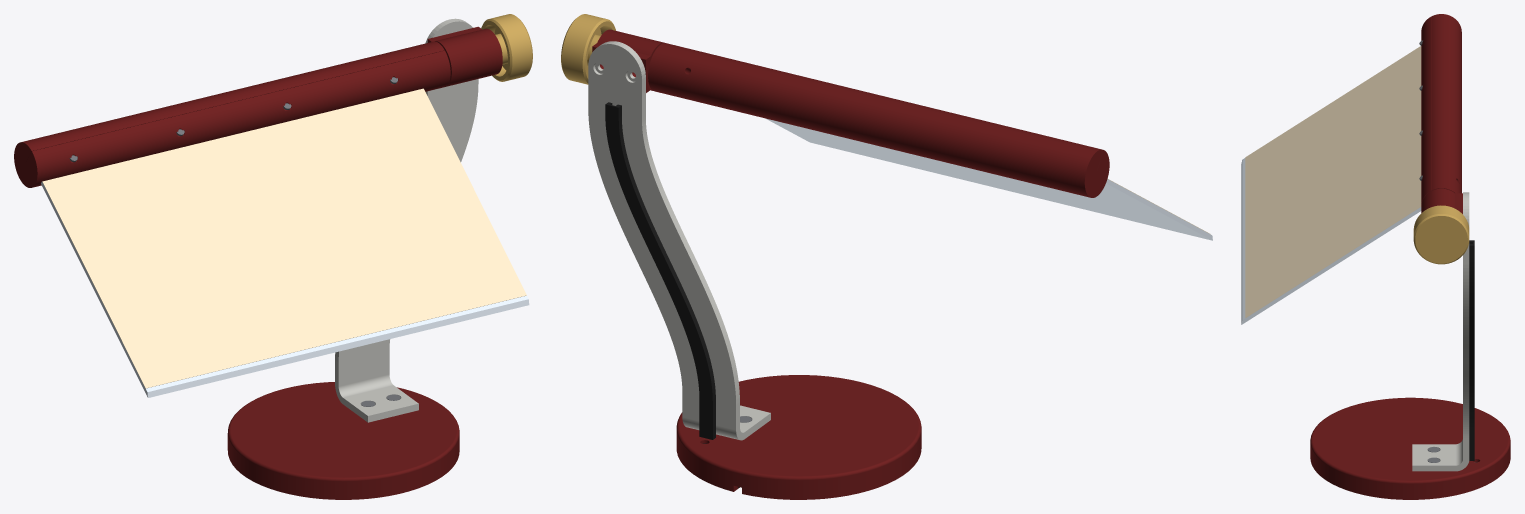
The model's file is ruta-pa-fot.glb.
3 renders of one model, left to right at view 1: azimuth 30°, elevation 25°; view 2: azimuth 150°, elevation 25°; view 3: azimuth 270°, elevation 25°, orthographic. The views are drawn at different scales.
Parts seen in each view (by area): view 1: 10_prismeark, 01_fot, 08_bjelkelok, 04_arm, 07_bjelke, 09_lysleiar, 06_leddhus, 13_knott; view 2: 07_bjelke, 01_fot, 04_arm, 09_lysleiar, 05_kabeldeksel, 13_knott, 06_leddhus; view 3: 10_prismeark, 01_fot, 07_bjelke, 04_arm, 13_knott, 08_bjelkelok, 09_lysleiar, 05_kabeldeksel, 06_leddhus.
Boxes of the visible parts, bbox=[...] form: 10_prismeark: bbox=[42, 88, 526, 388]; 01_fot: bbox=[227, 382, 459, 499]; 08_bjelkelok: bbox=[26, 50, 450, 182]; 04_arm: bbox=[335, 18, 478, 422]; 07_bjelke: bbox=[14, 41, 448, 187]; 09_lysleiar: bbox=[41, 182, 529, 397]; 06_leddhus: bbox=[427, 26, 502, 86]; 13_knott: bbox=[481, 14, 532, 81]; 07_bjelke: bbox=[648, 43, 1107, 197]; 01_fot: bbox=[676, 375, 921, 499]; 04_arm: bbox=[588, 41, 770, 440]; 09_lysleiar: bbox=[765, 118, 1212, 240]; 05_kabeldeksel: bbox=[605, 102, 715, 439]; 13_knott: bbox=[561, 14, 615, 84]; 06_leddhus: bbox=[592, 29, 664, 92]; 10_prismeark: bbox=[1245, 46, 1421, 317]; 01_fot: bbox=[1310, 397, 1510, 499]; 07_bjelke: bbox=[1431, 14, 1461, 193]; 04_arm: bbox=[1412, 192, 1469, 471]; 13_knott: bbox=[1413, 205, 1469, 264]; 08_bjelkelok: bbox=[1421, 17, 1431, 203]; 09_lysleiar: bbox=[1241, 158, 1421, 324]; 05_kabeldeksel: bbox=[1469, 240, 1474, 460]; 06_leddhus: bbox=[1421, 188, 1462, 213].
Bounding box in the file's own units: 387 × 282 × 212.
